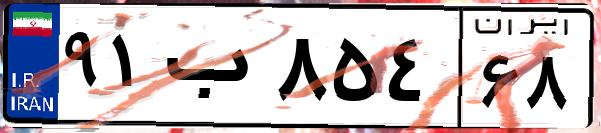1: (110, 28, 158, 98)
4: (385, 28, 445, 110)
5: (330, 28, 385, 110)
6: (475, 38, 525, 113)
8: (270, 28, 330, 110), (525, 38, 570, 115)
9: (57, 26, 110, 100)
ب: (158, 20, 270, 120)
